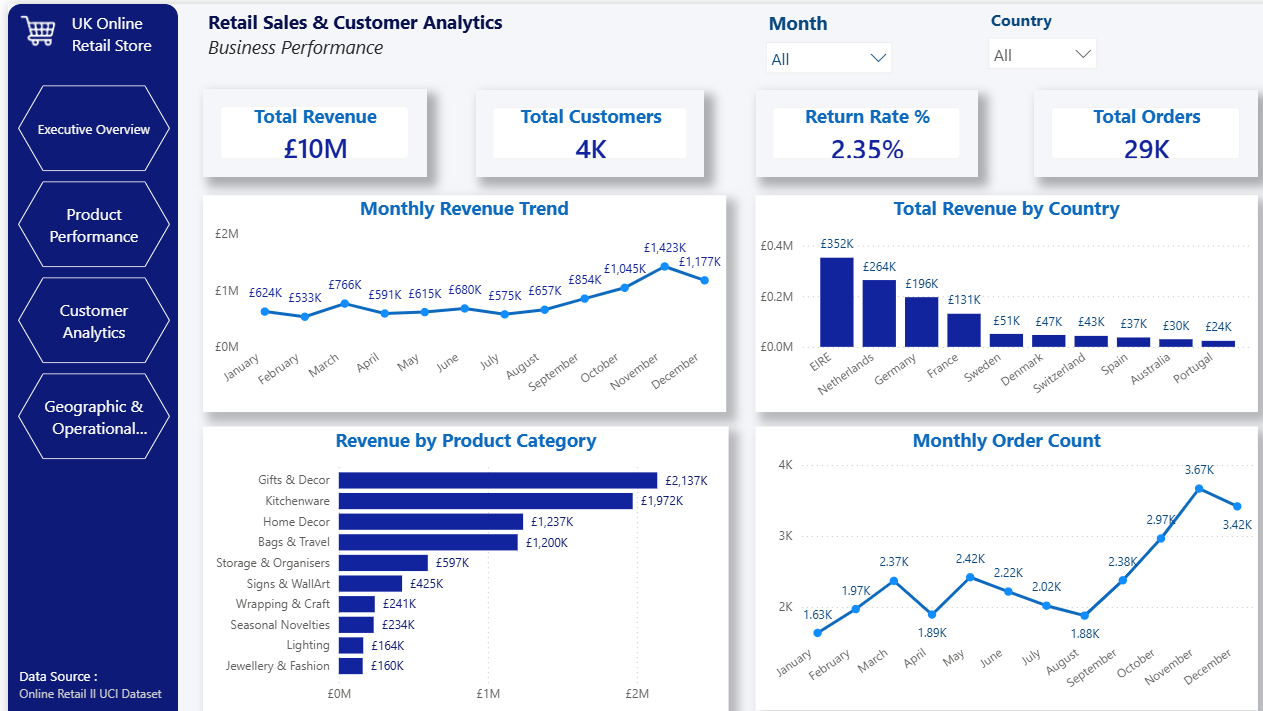

The page's visual inventory and layout, read from the dashboard file:
{"tool":"powerbi","page":{"name":"Executive Overview","canvas":[1280,720],"ordinal":0},"visuals":[{"type":"cardVisual","fields":{"Data":["CategoryLookup.Total Revenue"]},"box":[194.9,85.4,223.7,87.8],"z":0},{"type":"cardVisual","fields":{"Data":["CategoryLookup.Total Orders"]},"box":[1026.4,86.8,223.7,86.4],"z":1000},{"type":"cardVisual","fields":{"Data":["CategoryLookup.Total Customers"]},"box":[467.9,86.8,229.2,86.4],"z":2000},{"type":"cardVisual","fields":{"Data":["CategoryLookup.Return Rate %"]},"box":[747.9,86.8,222.3,86.4],"z":3000},{"type":"group","id":"g1","title":"Group 1","box":[0,0,170,720],"z":4000},{"type":"textbox","box":[194.9,0,334.8,60.4],"z":4000,"group":"g2"},{"type":"lineChart","title":"Monthly Revenue Trend","fields":{"Category":["Date Table.Month Name"],"Y":["CategoryLookup.Total Revenue"]},"box":[194.9,190.7,522.8,216.8],"z":5000},{"type":"shape","box":[0,0,170,720],"z":6000,"group":"g1"},{"type":"barChart","title":"Revenue by Product Category","fields":{"Category":["Sales.Product Category"],"Y":["CategoryLookup.Total Revenue"]},"box":[194.9,422.6,525.6,285.4],"z":6000},{"type":"image","box":[8.8,10,42.5,33.8],"z":7000,"group":"g1"},{"type":"columnChart","fields":{"Category":["Sales.Country"],"Y":["CategoryLookup.Total Revenue"]},"box":[747.9,190.7,502.2,216.8],"z":7000},{"type":"textbox","box":[58.8,2.5,103.8,57.5],"z":8000,"group":"g1"},{"type":"lineChart","title":"Monthly Order Count","fields":{"Category":["Date Table.Month Name"],"Y":["CategoryLookup.Total Orders"]},"box":[747.9,422.6,502.2,284],"z":8000},{"type":"pageNavigator","box":[10,81.4,152.9,375.7],"z":8500,"group":"g1"},{"type":"textbox","box":[6.9,657.3,155.1,63.1],"z":9000},{"type":"group","id":"g2","title":"Group 2","box":[194.9,0,904.3,72.7],"z":10000},{"type":"slicer","fields":{"Values":["Date Table.Month Name","Date Table.Year"]},"box":[747.9,1.4,146.8,70],"z":10000,"group":"g2"},{"type":"slicer","fields":{"Values":["Sales.Country"]},"box":[970.2,0,129,72.7],"z":11000,"group":"g2"}]}

Visuals, with their boxes in screenshot pixels (x1, y1, x2, y2), scaled from the page's 1280x720 canvas onto the 1263x711 screenshot:
cardVisual - CategoryLookup.Total Revenue: {"x1": 192, "y1": 84, "x2": 413, "y2": 171}
cardVisual - CategoryLookup.Total Orders: {"x1": 1013, "y1": 86, "x2": 1233, "y2": 171}
cardVisual - CategoryLookup.Total Customers: {"x1": 462, "y1": 86, "x2": 688, "y2": 171}
cardVisual - CategoryLookup.Return Rate %: {"x1": 738, "y1": 86, "x2": 957, "y2": 171}
"Group 1" group: {"x1": 0, "y1": 0, "x2": 168, "y2": 710}
textbox: {"x1": 192, "y1": 0, "x2": 523, "y2": 60}
"Monthly Revenue Trend" lineChart: {"x1": 192, "y1": 188, "x2": 708, "y2": 402}
shape: {"x1": 0, "y1": 0, "x2": 168, "y2": 710}
"Revenue by Product Category" barChart: {"x1": 192, "y1": 417, "x2": 711, "y2": 699}
image: {"x1": 9, "y1": 10, "x2": 51, "y2": 43}
columnChart - Sales.Country x CategoryLookup.Total Revenue: {"x1": 738, "y1": 188, "x2": 1233, "y2": 402}
textbox: {"x1": 58, "y1": 2, "x2": 160, "y2": 59}
"Monthly Order Count" lineChart: {"x1": 738, "y1": 417, "x2": 1233, "y2": 698}
pageNavigator: {"x1": 10, "y1": 80, "x2": 161, "y2": 451}
textbox: {"x1": 7, "y1": 649, "x2": 160, "y2": 710}
"Group 2" group: {"x1": 192, "y1": 0, "x2": 1085, "y2": 72}
slicer - Date Table.Month Name x Date Table.Year: {"x1": 738, "y1": 1, "x2": 883, "y2": 71}
slicer - Sales.Country: {"x1": 957, "y1": 0, "x2": 1085, "y2": 72}
